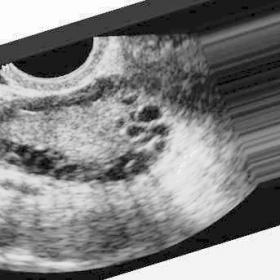PCOS: (136, 101, 161, 123), (54, 163, 79, 181), (10, 140, 31, 158), (134, 149, 155, 165), (105, 165, 125, 180), (152, 137, 169, 154), (128, 124, 146, 140), (38, 153, 52, 172), (152, 122, 171, 136), (1, 140, 16, 153), (116, 156, 130, 168)
